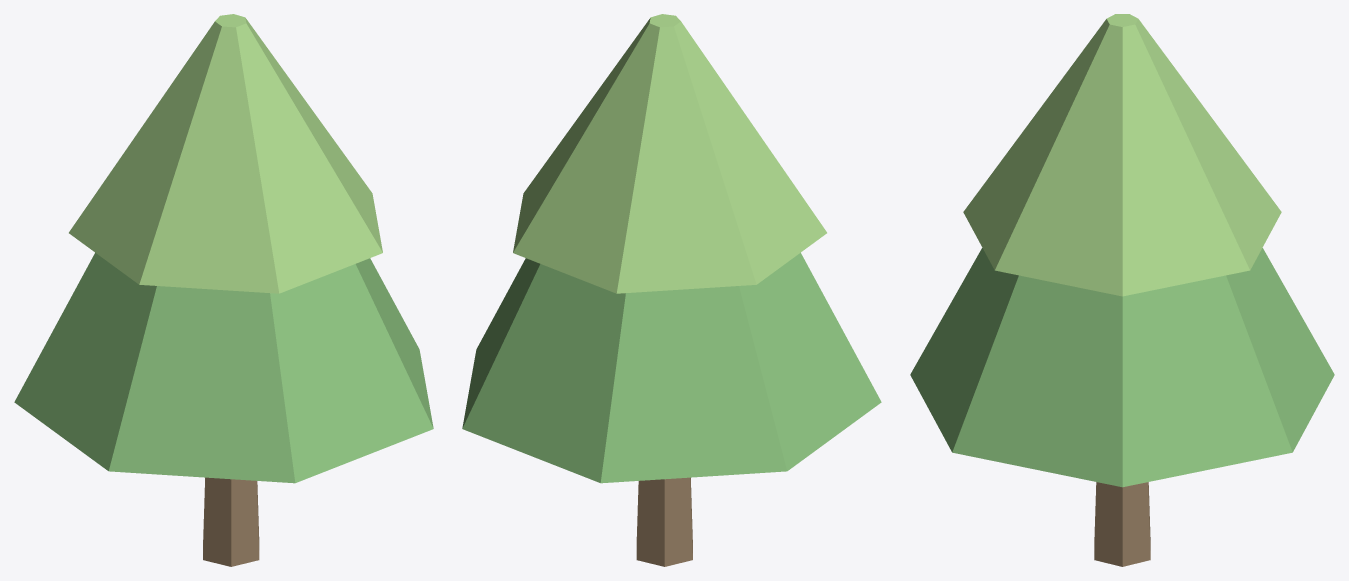
The model's file is tree.glb.
3 views of the same model, side by side, from view 1: azimuth 30°, elevation 25°; view 2: azimuth 150°, elevation 25°; view 3: azimuth 270°, elevation 25° (orthographic).
Visible parts, largest first — view 1: tree; view 2: tree; view 3: tree.
Part boxes in pixels (box(x1,y1,x2,y2)): tree: box(14, 14, 433, 566); tree: box(462, 14, 881, 566); tree: box(910, 14, 1334, 566).
Bounding box in the file's own units: 3.8 × 5.4 × 3.9.
